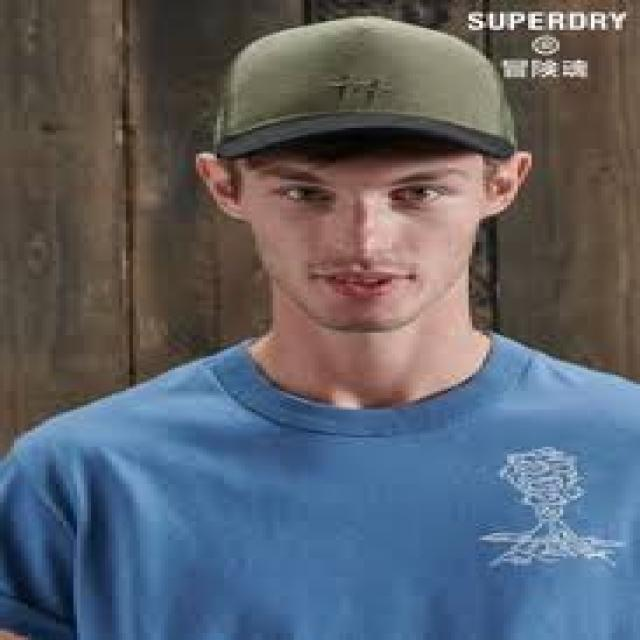cap: (175, 11, 549, 232)
